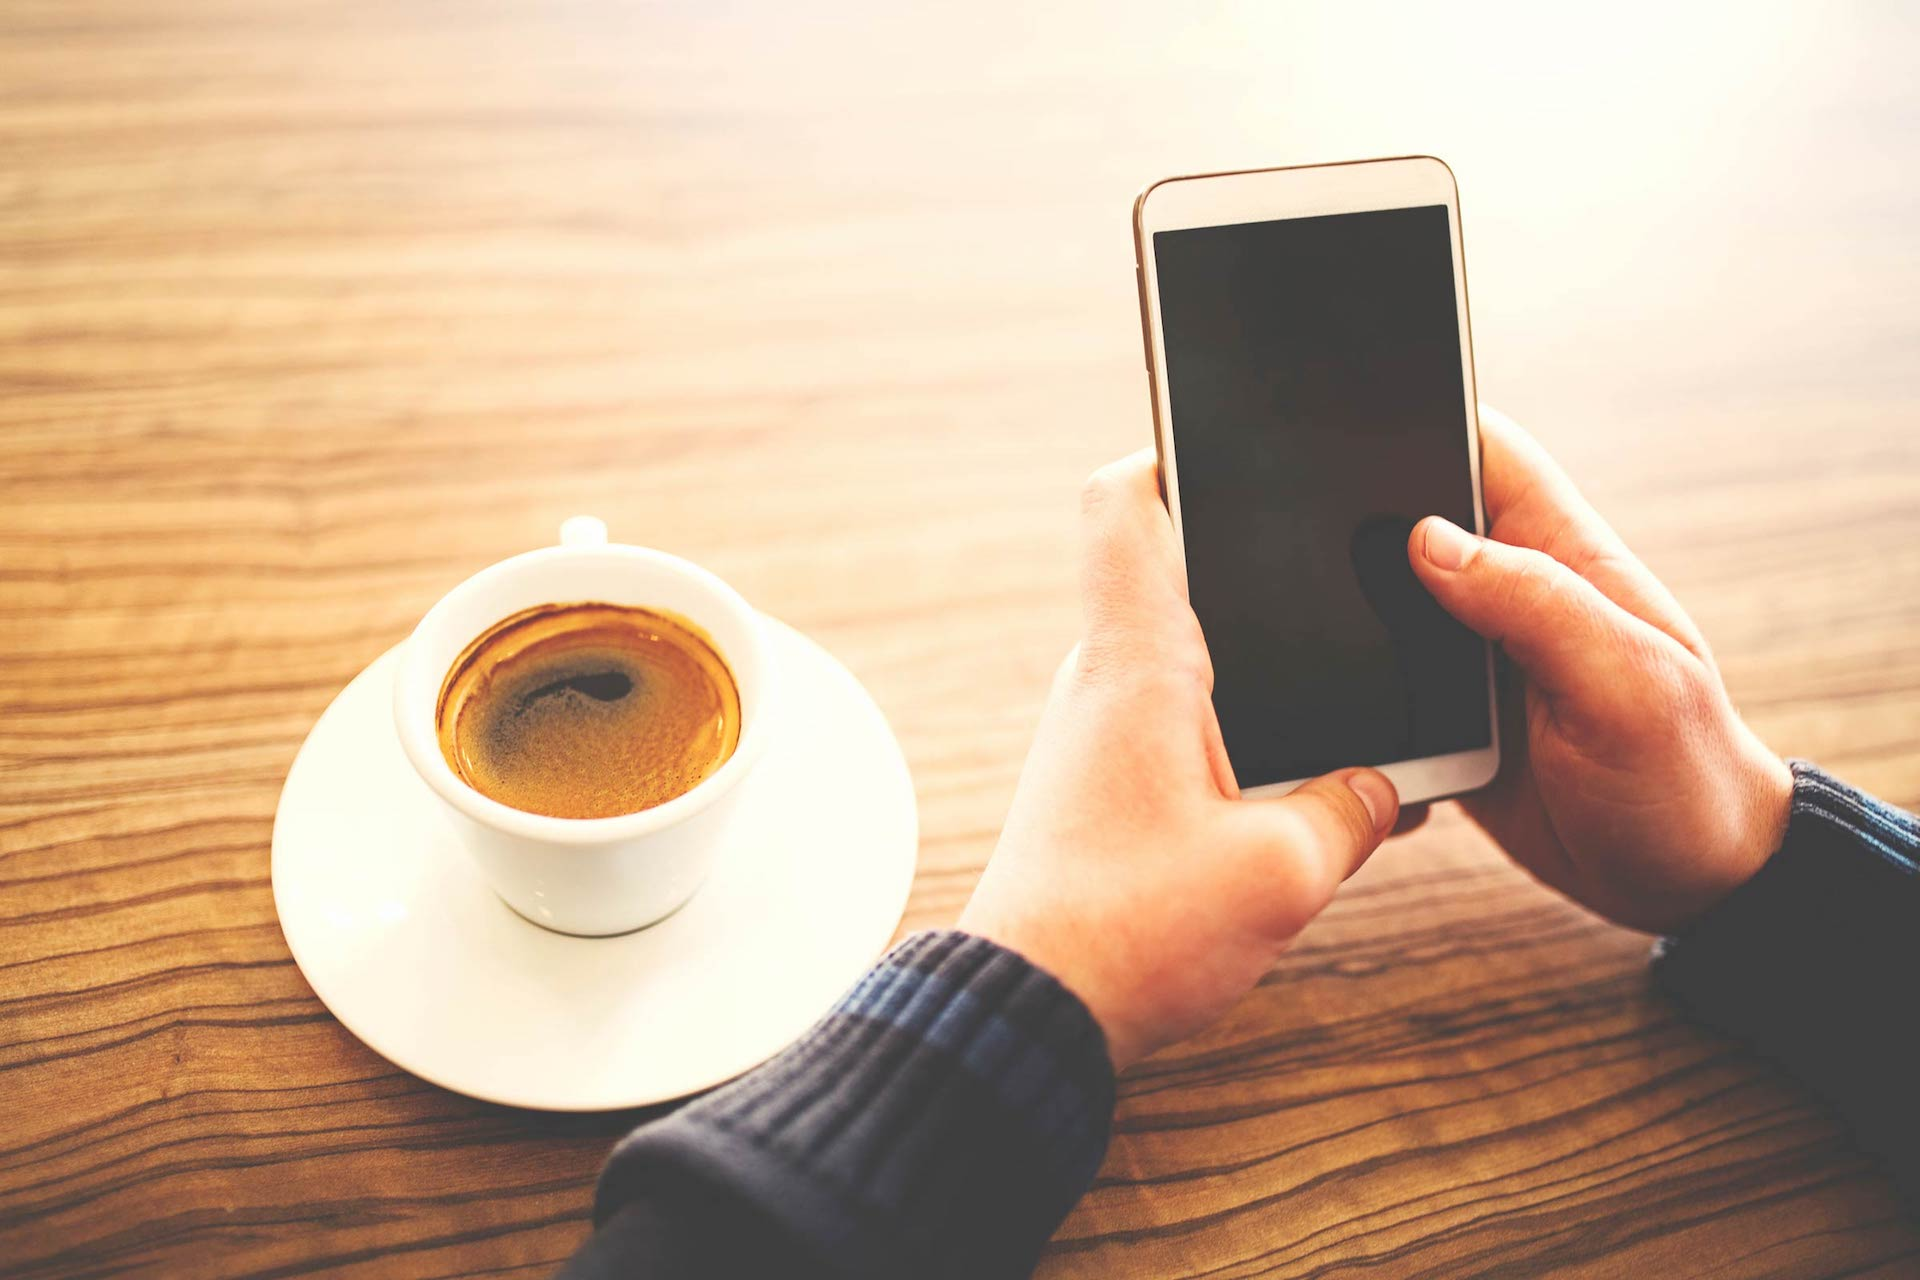smartphone: (1130, 154, 1507, 811)
